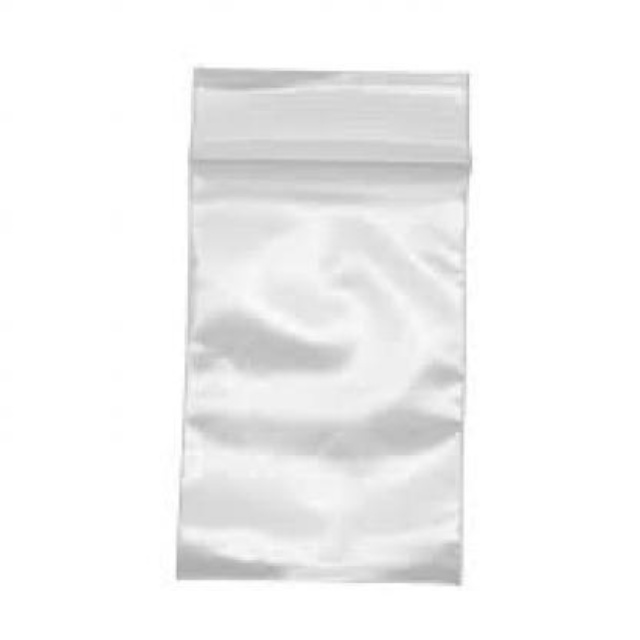trash: (178, 68, 469, 582)
